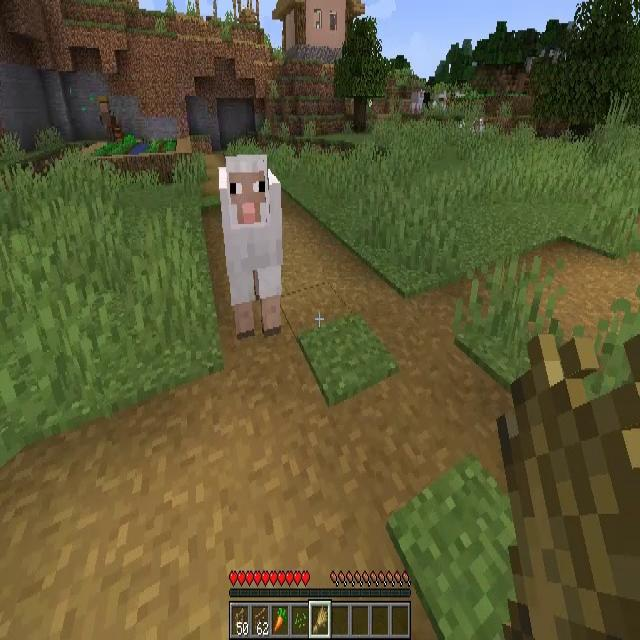sheep: (220, 152, 282, 339), (412, 89, 424, 113)
